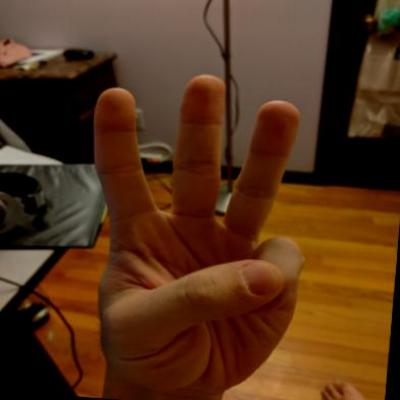hand: (66, 62, 326, 399)
